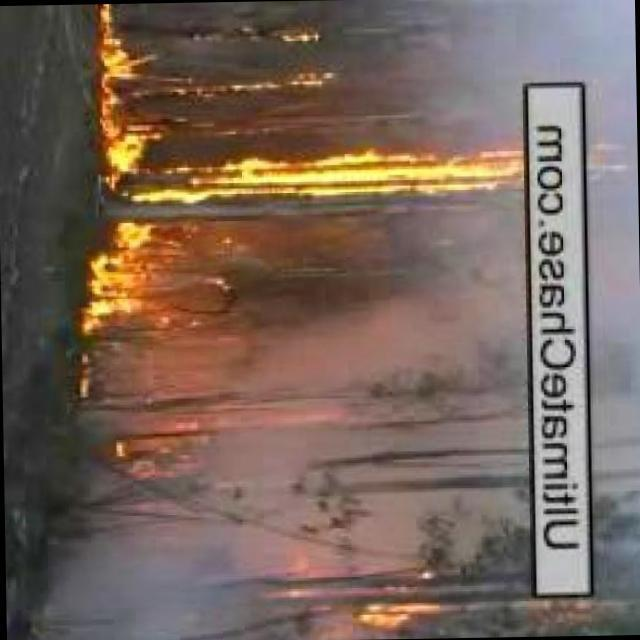Fire: (100, 157, 581, 201), (68, 212, 192, 331), (87, 4, 164, 159), (113, 422, 227, 484), (336, 577, 457, 631)
